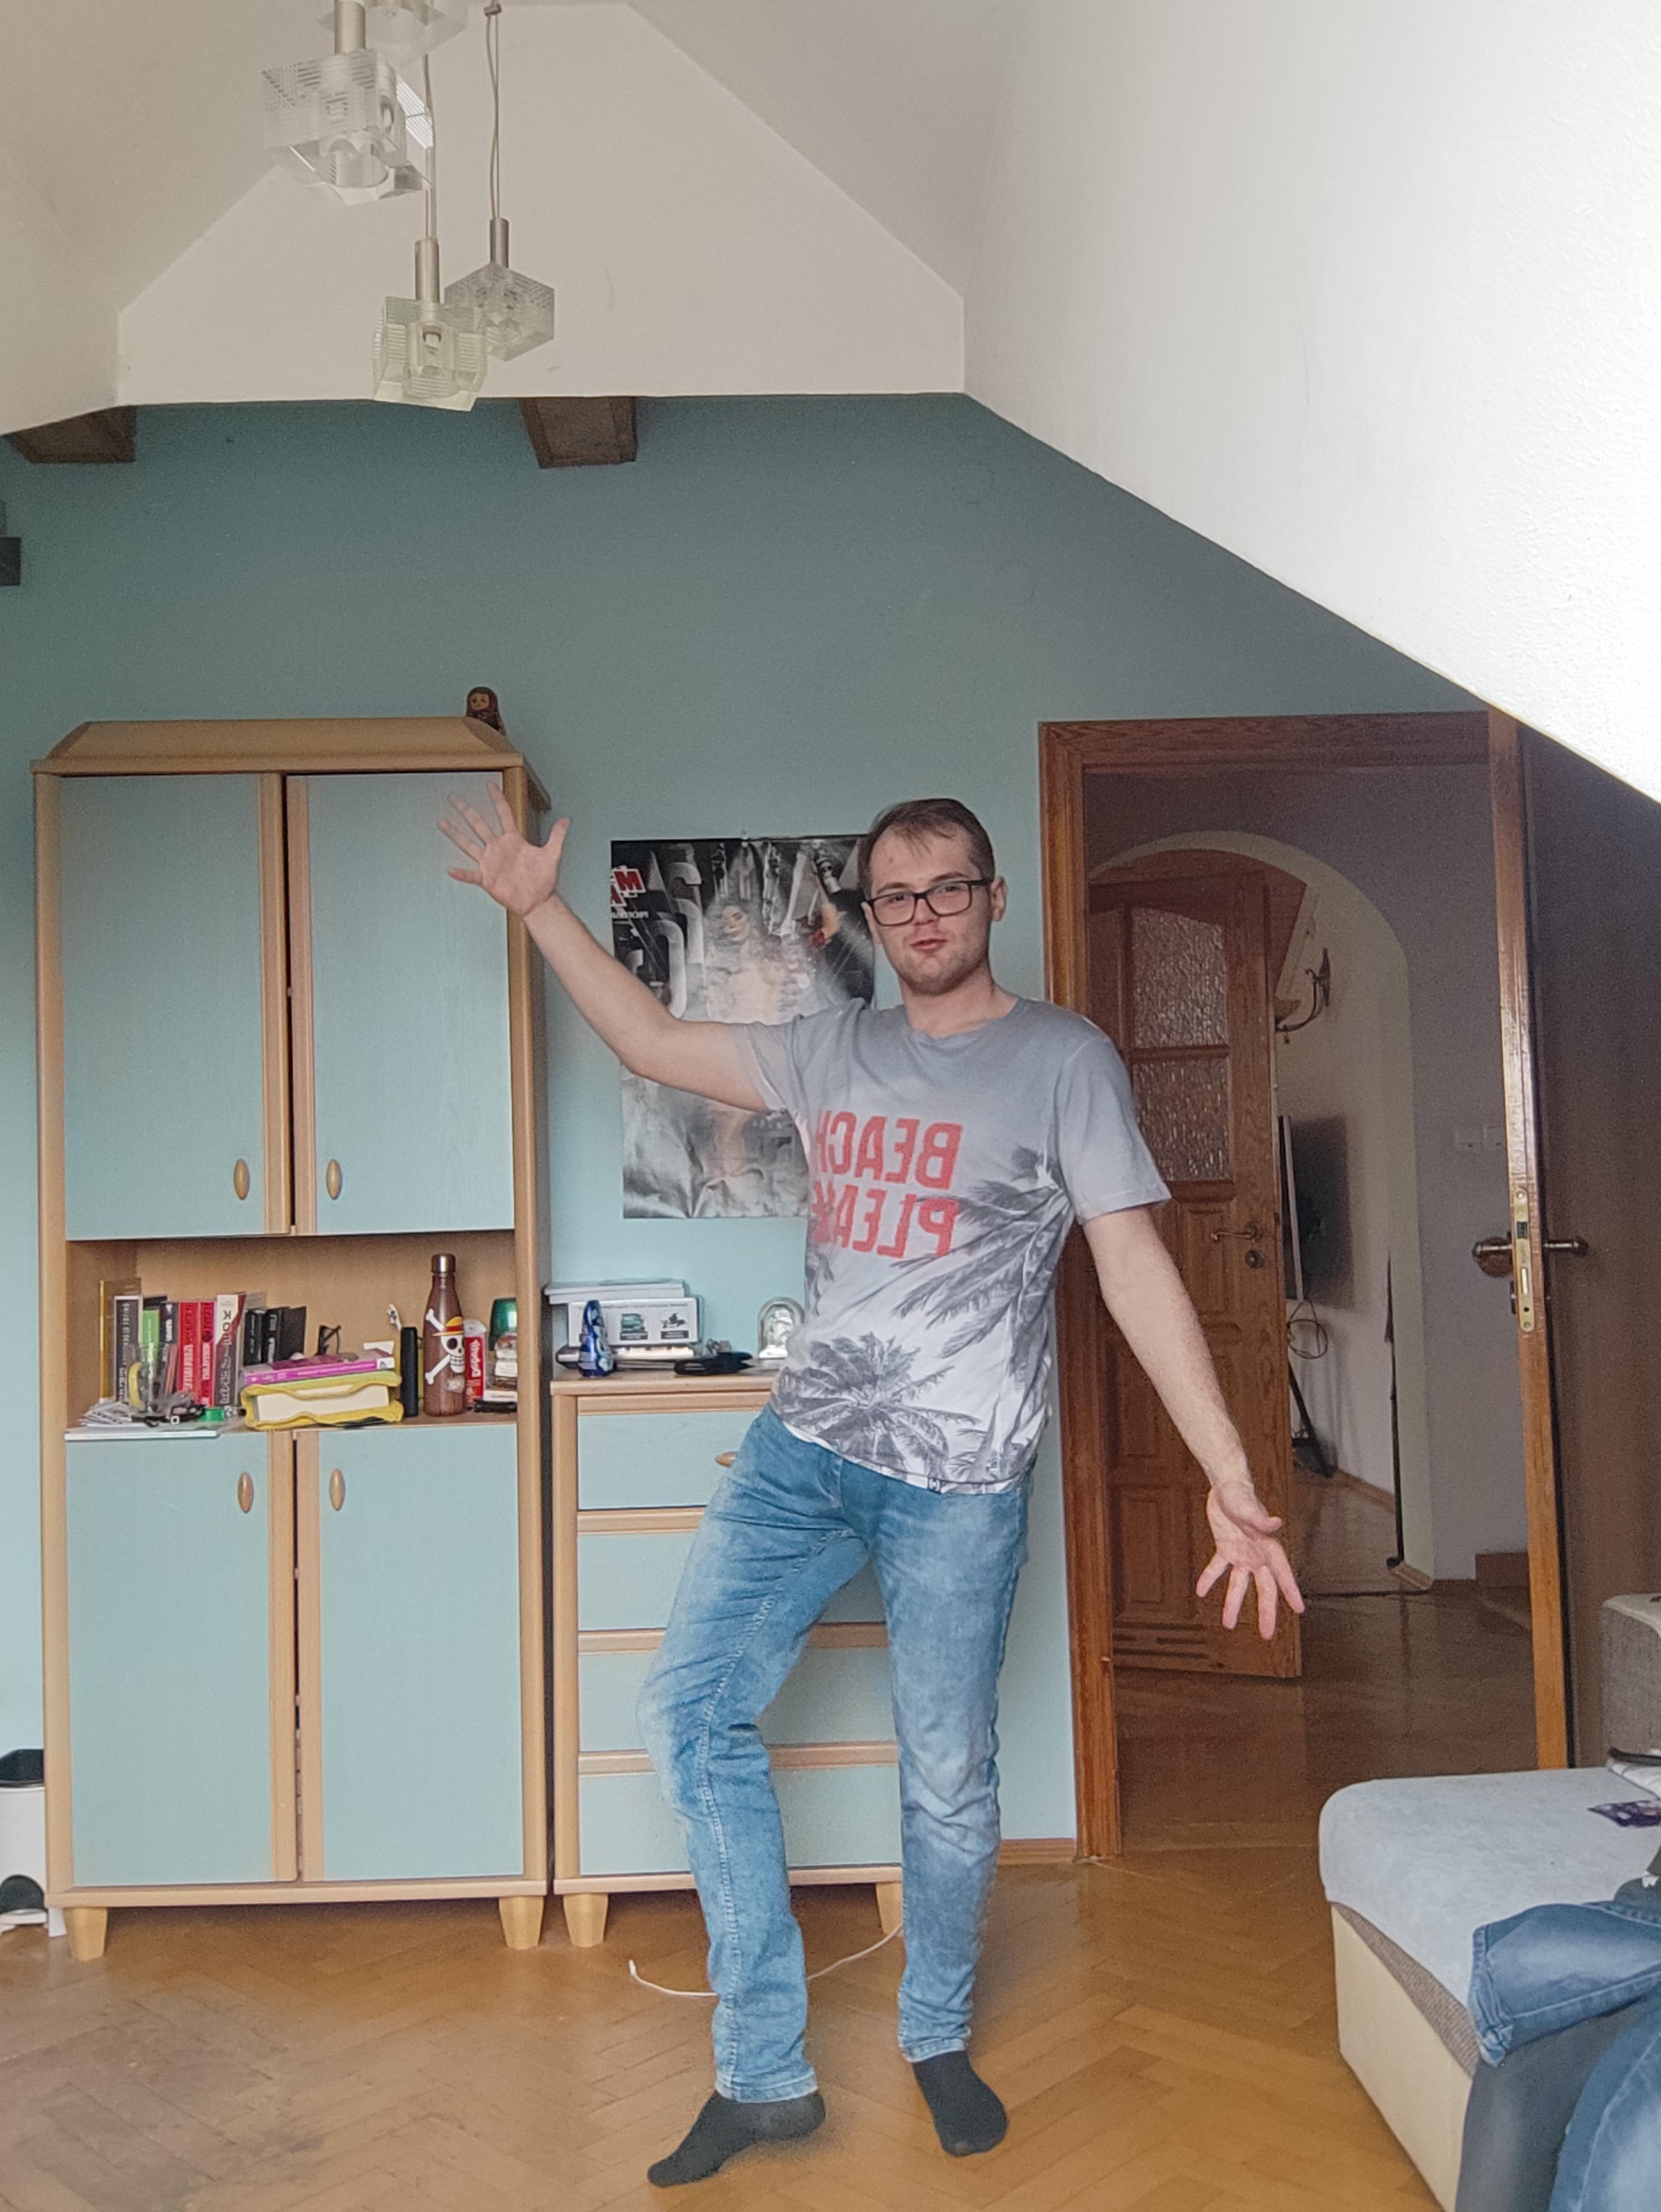Tshirt: (729, 994, 1171, 1495)
pants: (639, 1368, 1028, 2102)
